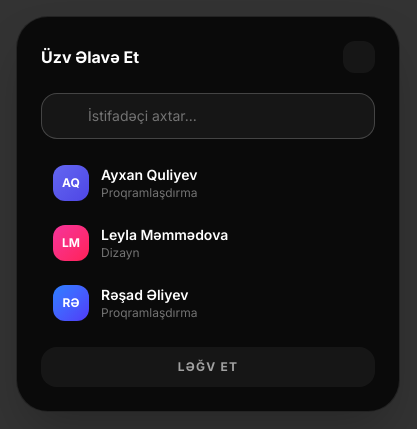
AddMemberModal — unit testlər › boş axtarış nəticəsində "İstifadəçi tapılmadı" mesajı göstərilir
The width and height of the screenshot is (417, 429).
In the field with placeholder "İstifadəçi axtar...": coordinates (223, 116) 88,106 -> 358,126, type "xxxxxxxxxxx"
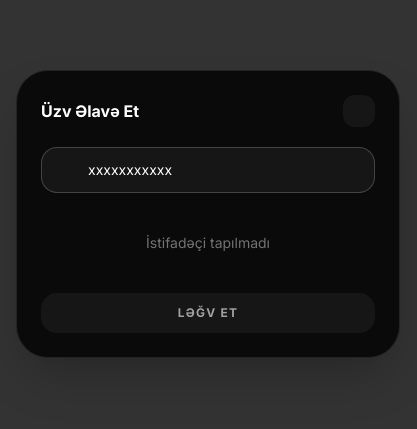
Expected: the text "İstifadəçi tapılmadı" is shown, 146,234 -> 270,251
